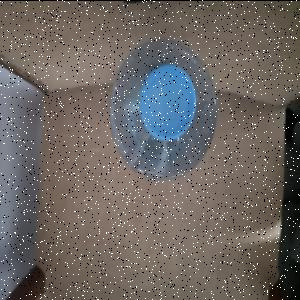Plastic-bottle: (109, 36, 219, 182)
